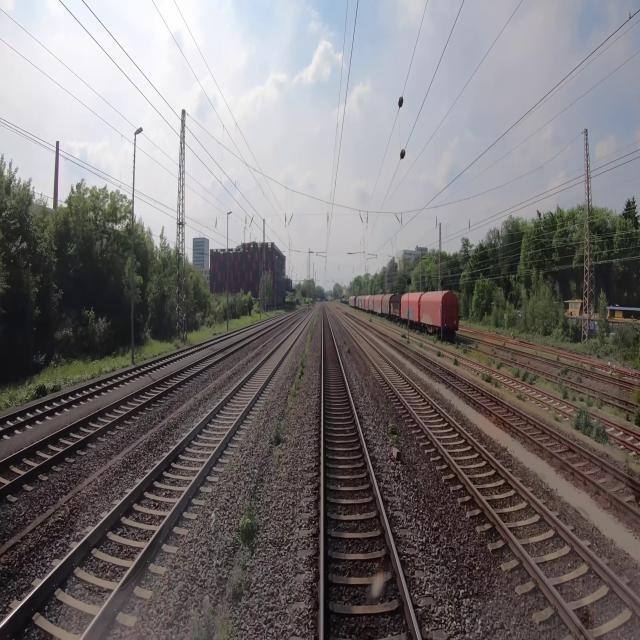Plant: (287, 325, 314, 405), (186, 600, 237, 639), (571, 407, 609, 444), (237, 502, 258, 547), (272, 415, 289, 458), (512, 368, 538, 385), (387, 419, 400, 445), (480, 372, 501, 388), (558, 378, 571, 401), (586, 394, 602, 409), (632, 403, 639, 429), (627, 388, 639, 403), (558, 364, 568, 377), (460, 341, 468, 355), (515, 392, 526, 402), (435, 349, 444, 358), (452, 356, 459, 366), (496, 361, 502, 369)
